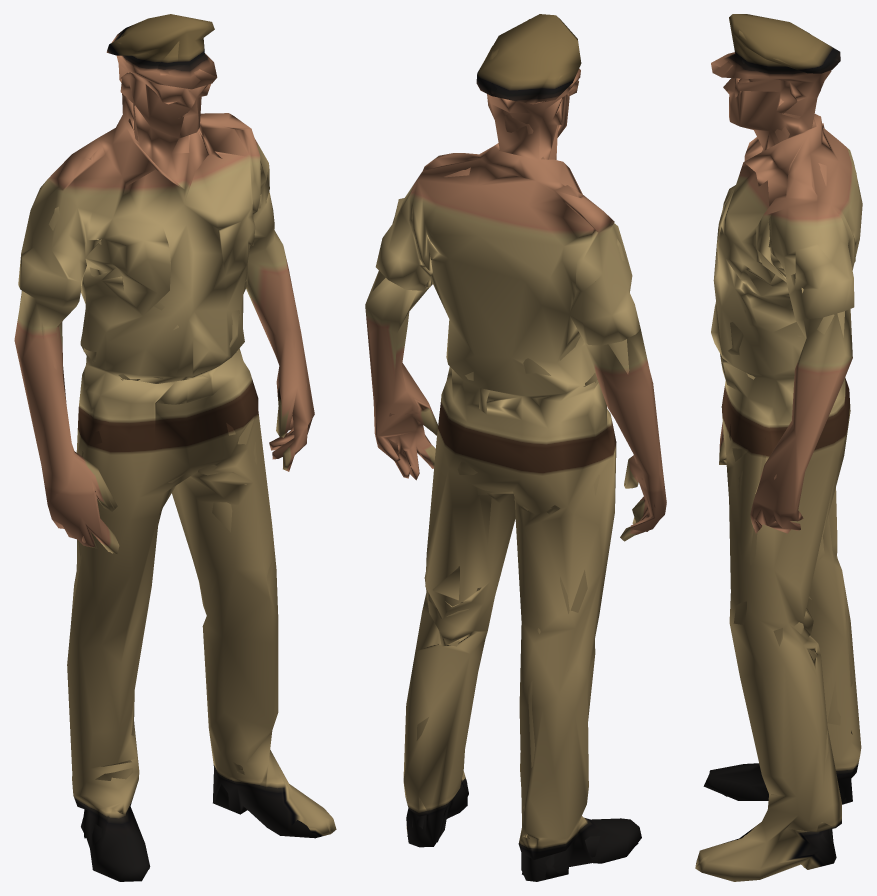
The model's file is police_m_ips.glb.
The picture shows the model from 3 angles, left to right: view 1: azimuth 30°, elevation 25°; view 2: azimuth 150°, elevation 25°; view 3: azimuth 270°, elevation 25°; orthographic projection. The views are drawn at different scales.
Visible parts, largest first — view 1: police_m_ips; view 2: police_m_ips; view 3: police_m_ips.
Boxes of the visible parts, x1,y1,x2,y2 form: police_m_ips: (14, 14, 336, 881); police_m_ips: (365, 14, 666, 881); police_m_ips: (695, 14, 862, 881).
Bounding box in the file's own units: 0.6289 × 1.76 × 0.3321.
Materials: 1 (1 with a texture image).
